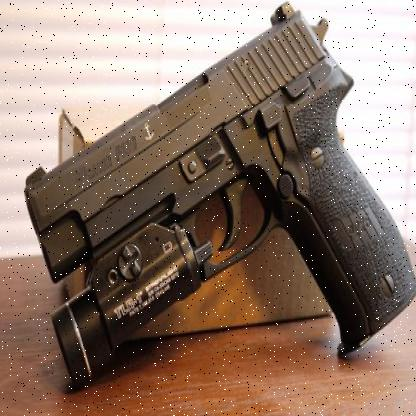pistol: (10, 3, 412, 361)
